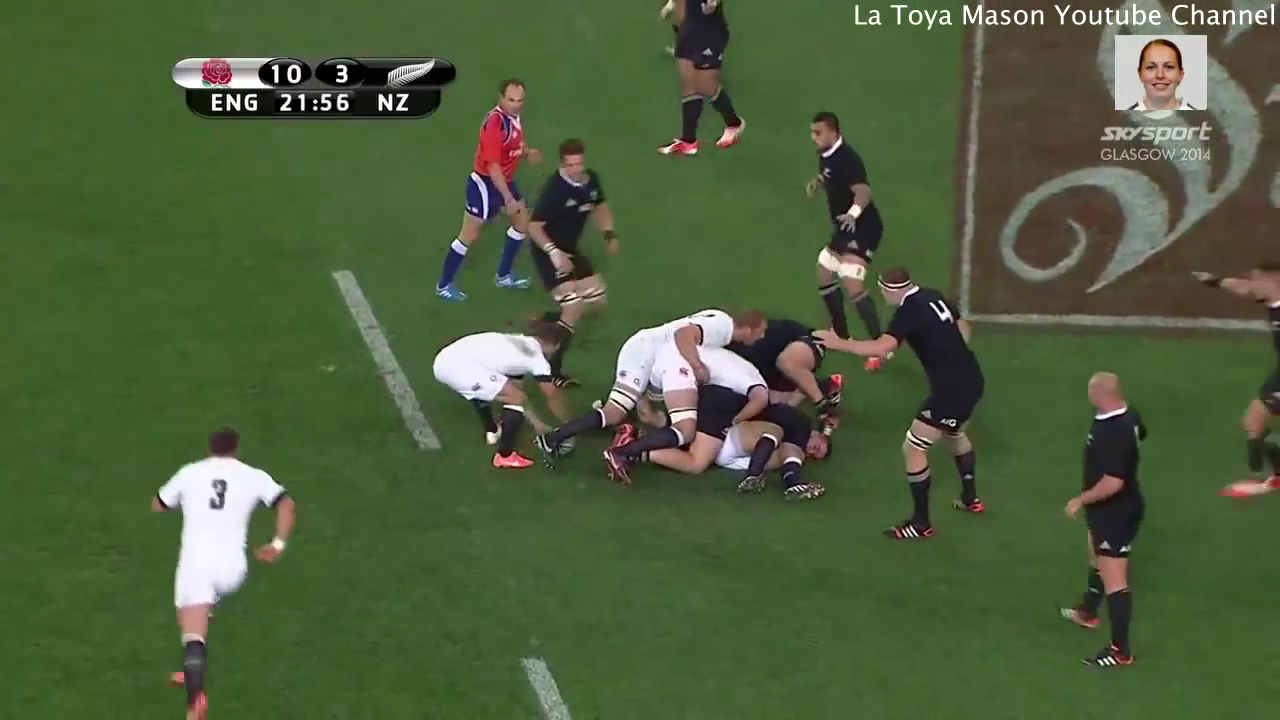player: (136, 428, 303, 720), (825, 263, 984, 545), (1053, 367, 1147, 676), (430, 76, 533, 316), (422, 317, 570, 471), (595, 346, 761, 483), (799, 112, 886, 332), (525, 136, 617, 341), (643, 1, 756, 165), (598, 304, 762, 370)
ruck: (582, 305, 833, 491)
